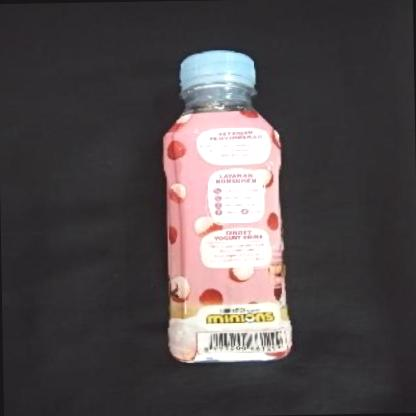plastic_bottles: (159, 44, 298, 364)
